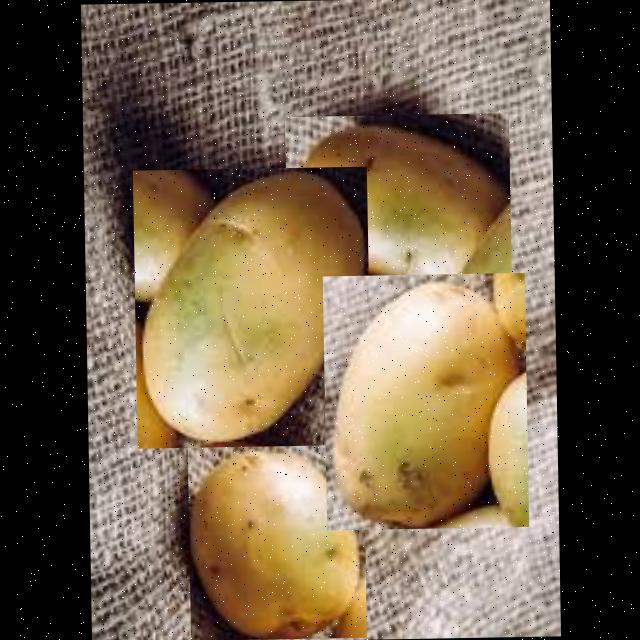Defected potato: (132, 166, 370, 448), (322, 272, 528, 530), (284, 112, 511, 296), (186, 441, 365, 640)
